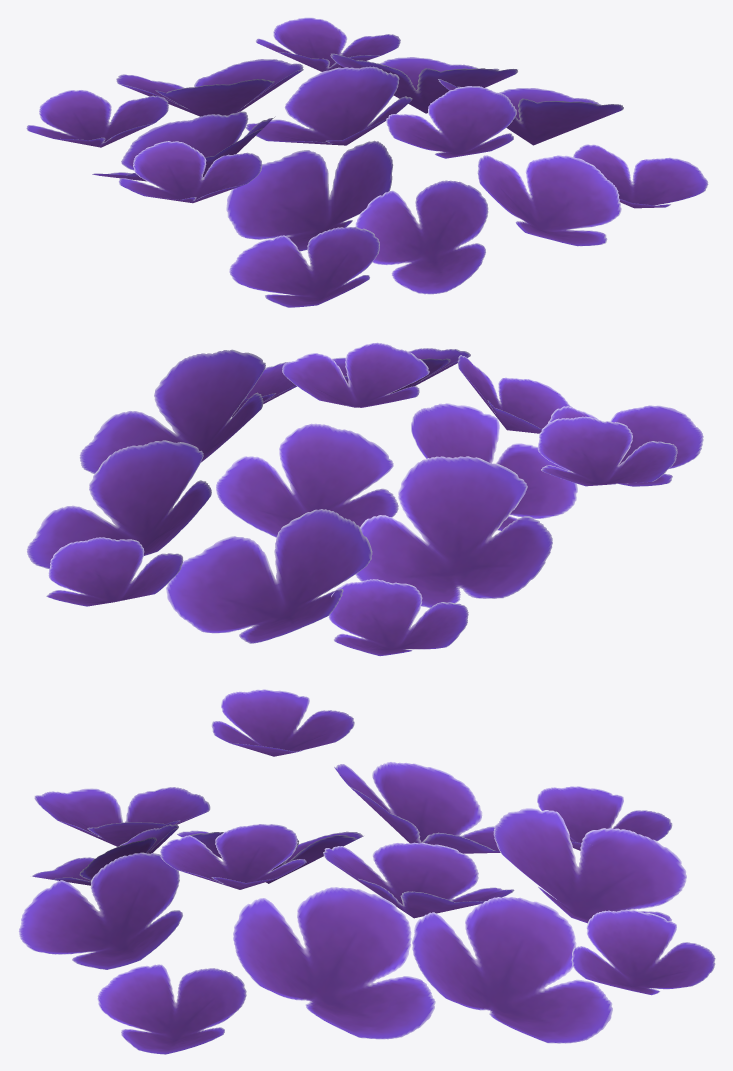
Rendered from Plant_7_Big.glb.
3 renders of one model, top to bottom at view 1: azimuth 30°, elevation 25°; view 2: azimuth 150°, elevation 25°; view 3: azimuth 270°, elevation 25°, orthographic. The views are drawn at different scales.
Parts seen in each view (by area): view 1: Plant_7_Big; view 2: Plant_7_Big; view 3: Plant_7_Big.
Boxes of the visible parts, x1,y1,x2,y2 form: Plant_7_Big: (26,17,708,307); Plant_7_Big: (27,342,703,656); Plant_7_Big: (18,689,715,1054).
Bounding box in the file's own units: 1.31 × 0.2534 × 1.36.
Materials: 1 (1 with a texture image).
